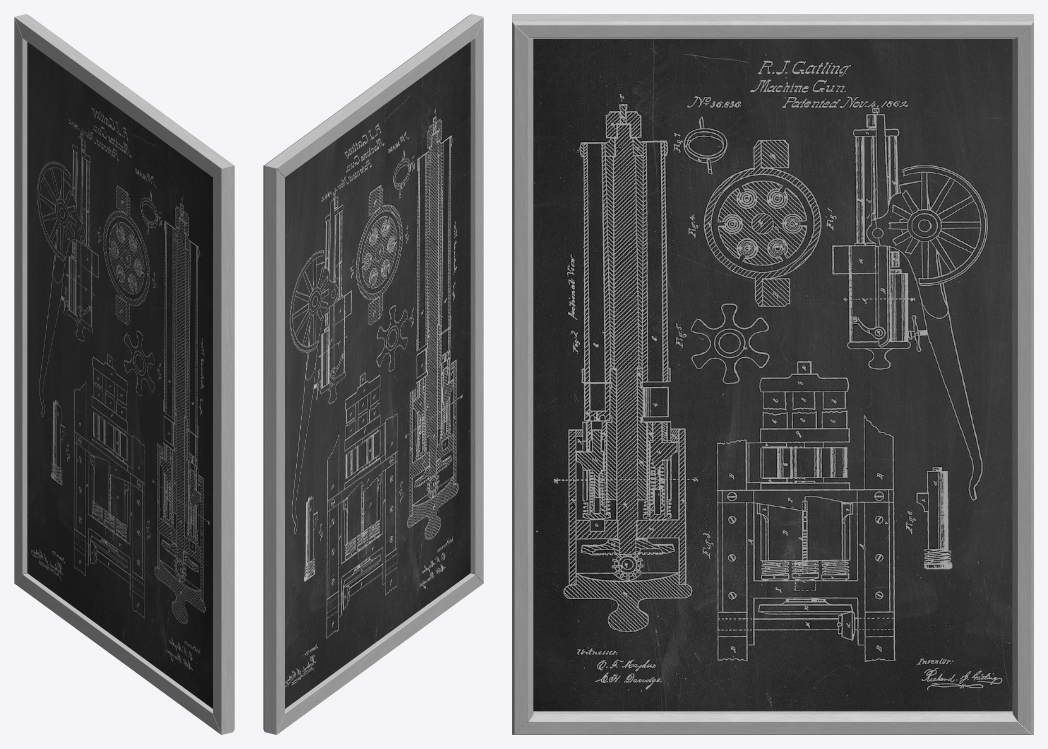
Rendered from Picture.glb.
3 views of the same model, side by side, from view 1: azimuth 30°, elevation 25°; view 2: azimuth 150°, elevation 25°; view 3: azimuth 270°, elevation 25° (orthographic). The views are drawn at different scales.
Parts seen in each view (by area): view 1: Object01; view 2: Object01; view 3: Object01.
Part boxes in pixels (bbox=[...]): Object01: bbox=[14, 14, 234, 734]; Object01: bbox=[263, 14, 483, 734]; Object01: bbox=[512, 14, 1033, 734].
Size of the model in its own units: 4.72 by 175 by 116.
2 materials, 2 textured.
